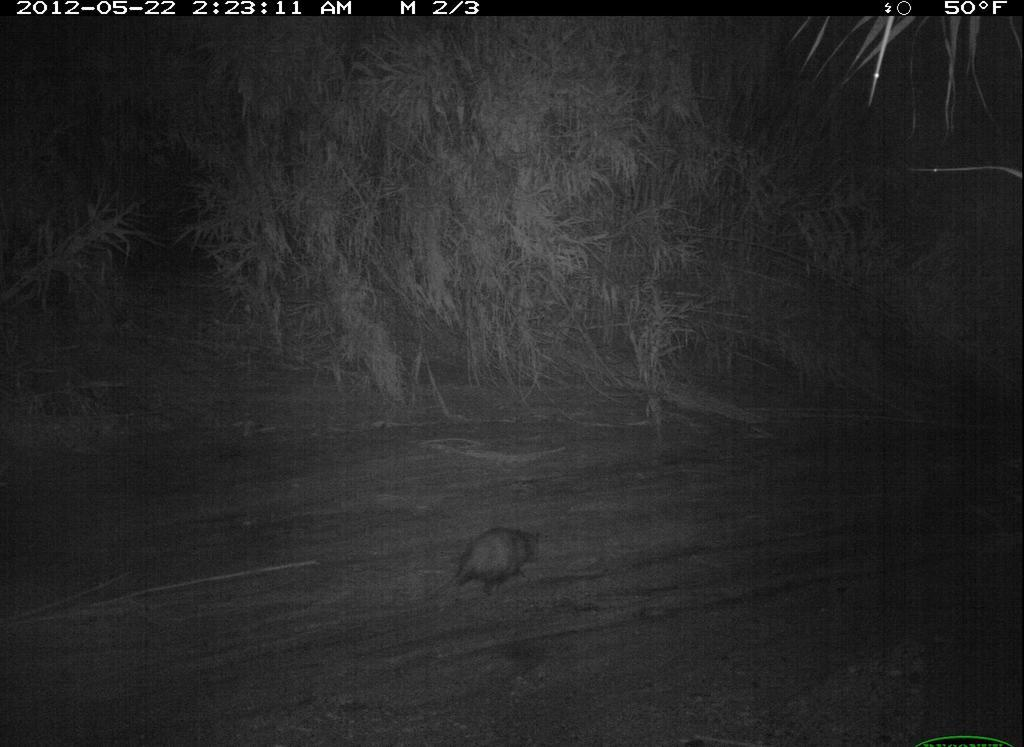opossum: (436, 517, 563, 613)
